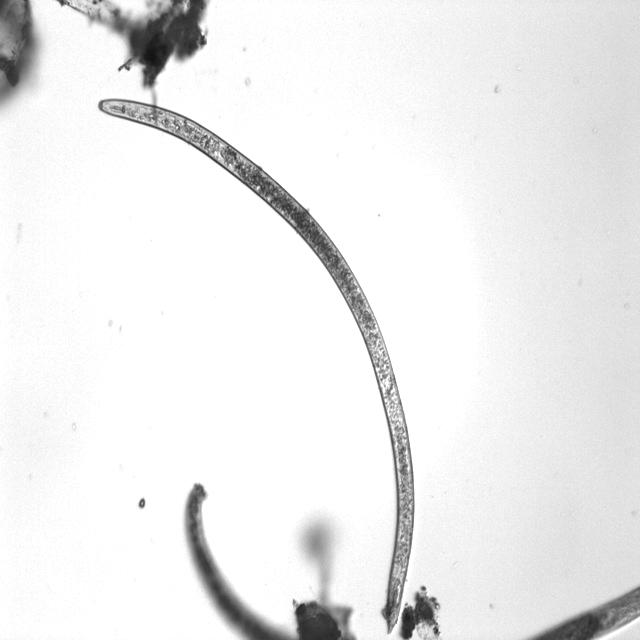Helicotylenchus: (90, 96, 418, 634)
